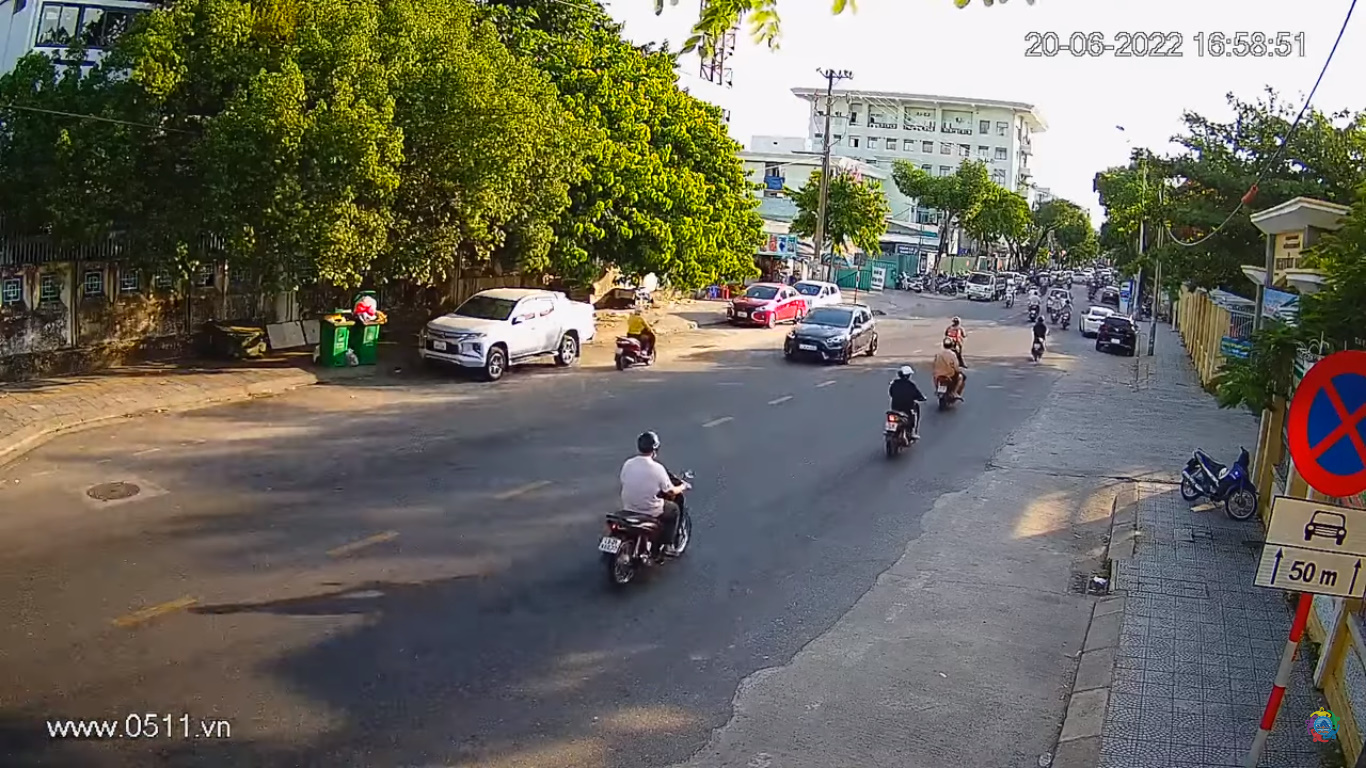car: (780, 302, 880, 368)
